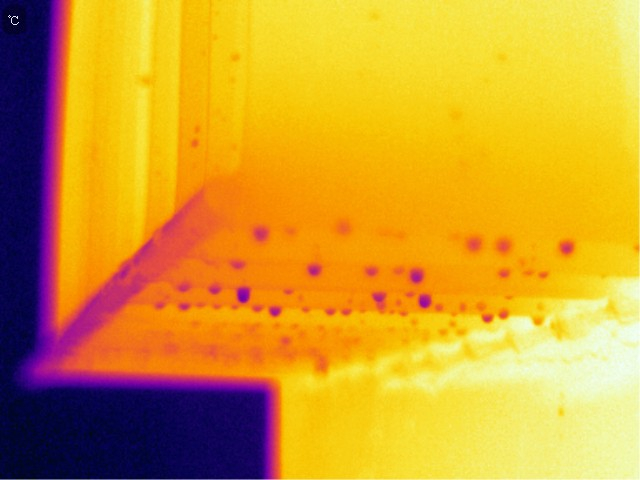Water: (442, 302, 471, 336), (476, 307, 517, 324), (330, 217, 363, 237), (462, 232, 485, 257), (233, 285, 260, 306), (520, 264, 554, 280), (412, 289, 436, 310), (303, 262, 328, 282), (556, 238, 582, 256), (323, 305, 352, 321), (251, 224, 274, 244), (497, 235, 517, 257), (153, 297, 173, 319), (265, 301, 285, 322), (228, 256, 254, 270), (496, 265, 517, 282), (407, 267, 426, 285), (170, 298, 189, 316), (365, 290, 393, 302), (280, 285, 301, 300), (530, 313, 554, 326), (178, 281, 198, 296), (292, 304, 315, 317), (364, 265, 383, 280), (208, 281, 224, 296), (400, 310, 414, 321), (376, 308, 388, 318)
